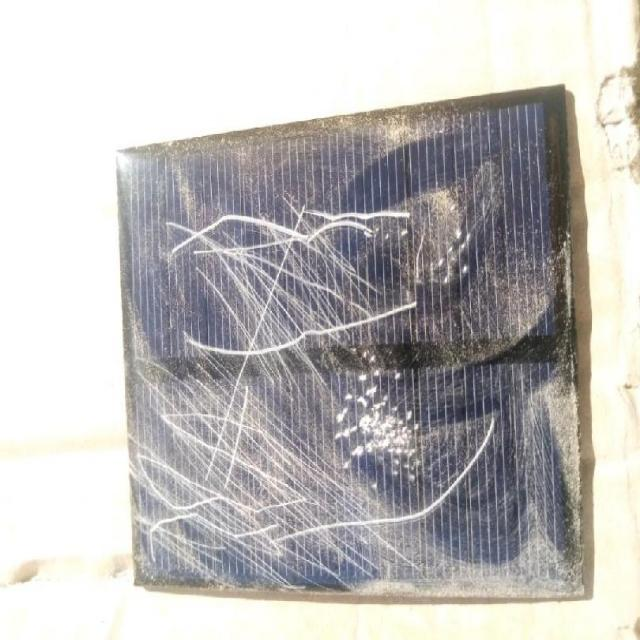faulty: (128, 125, 582, 604)
